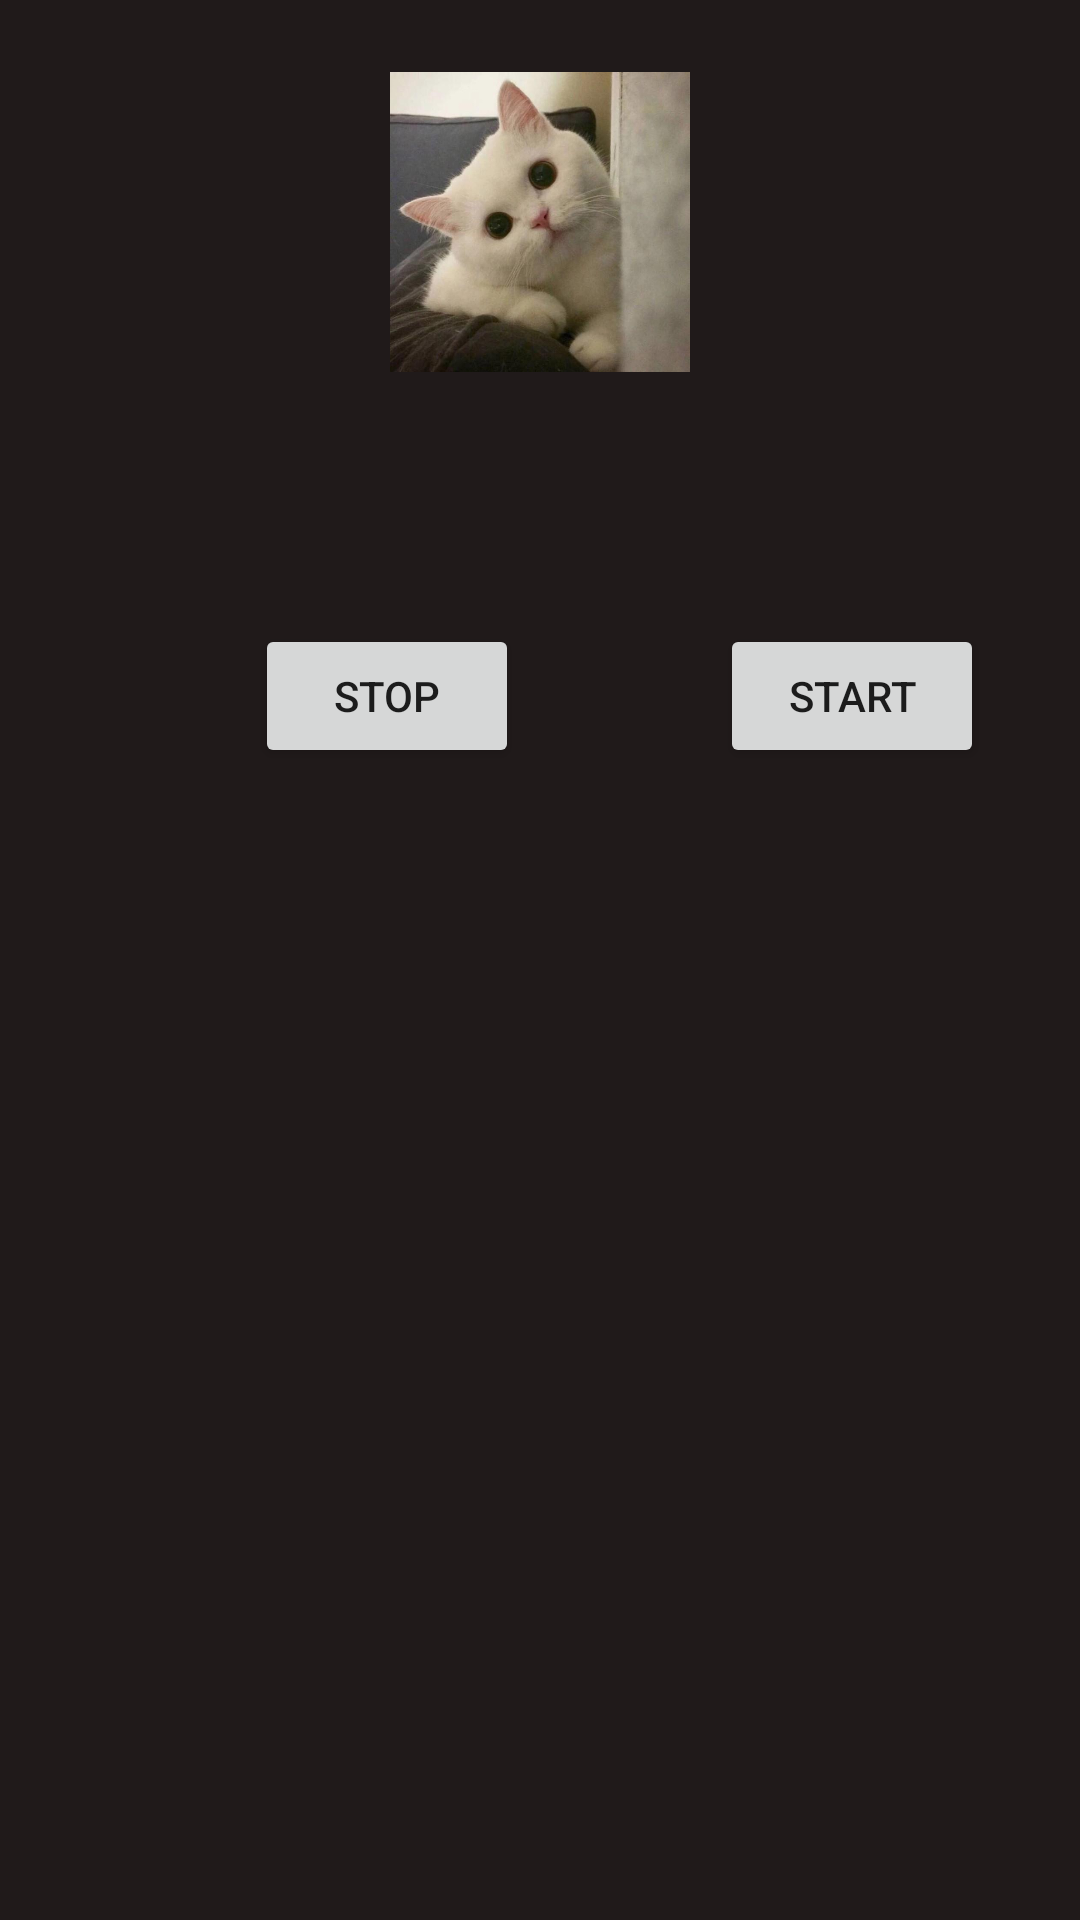

Icons on this 1080px x 1920px Android screen, each with its box as [x1,y1,x2,y2]:
cat: [390,72,690,372]
